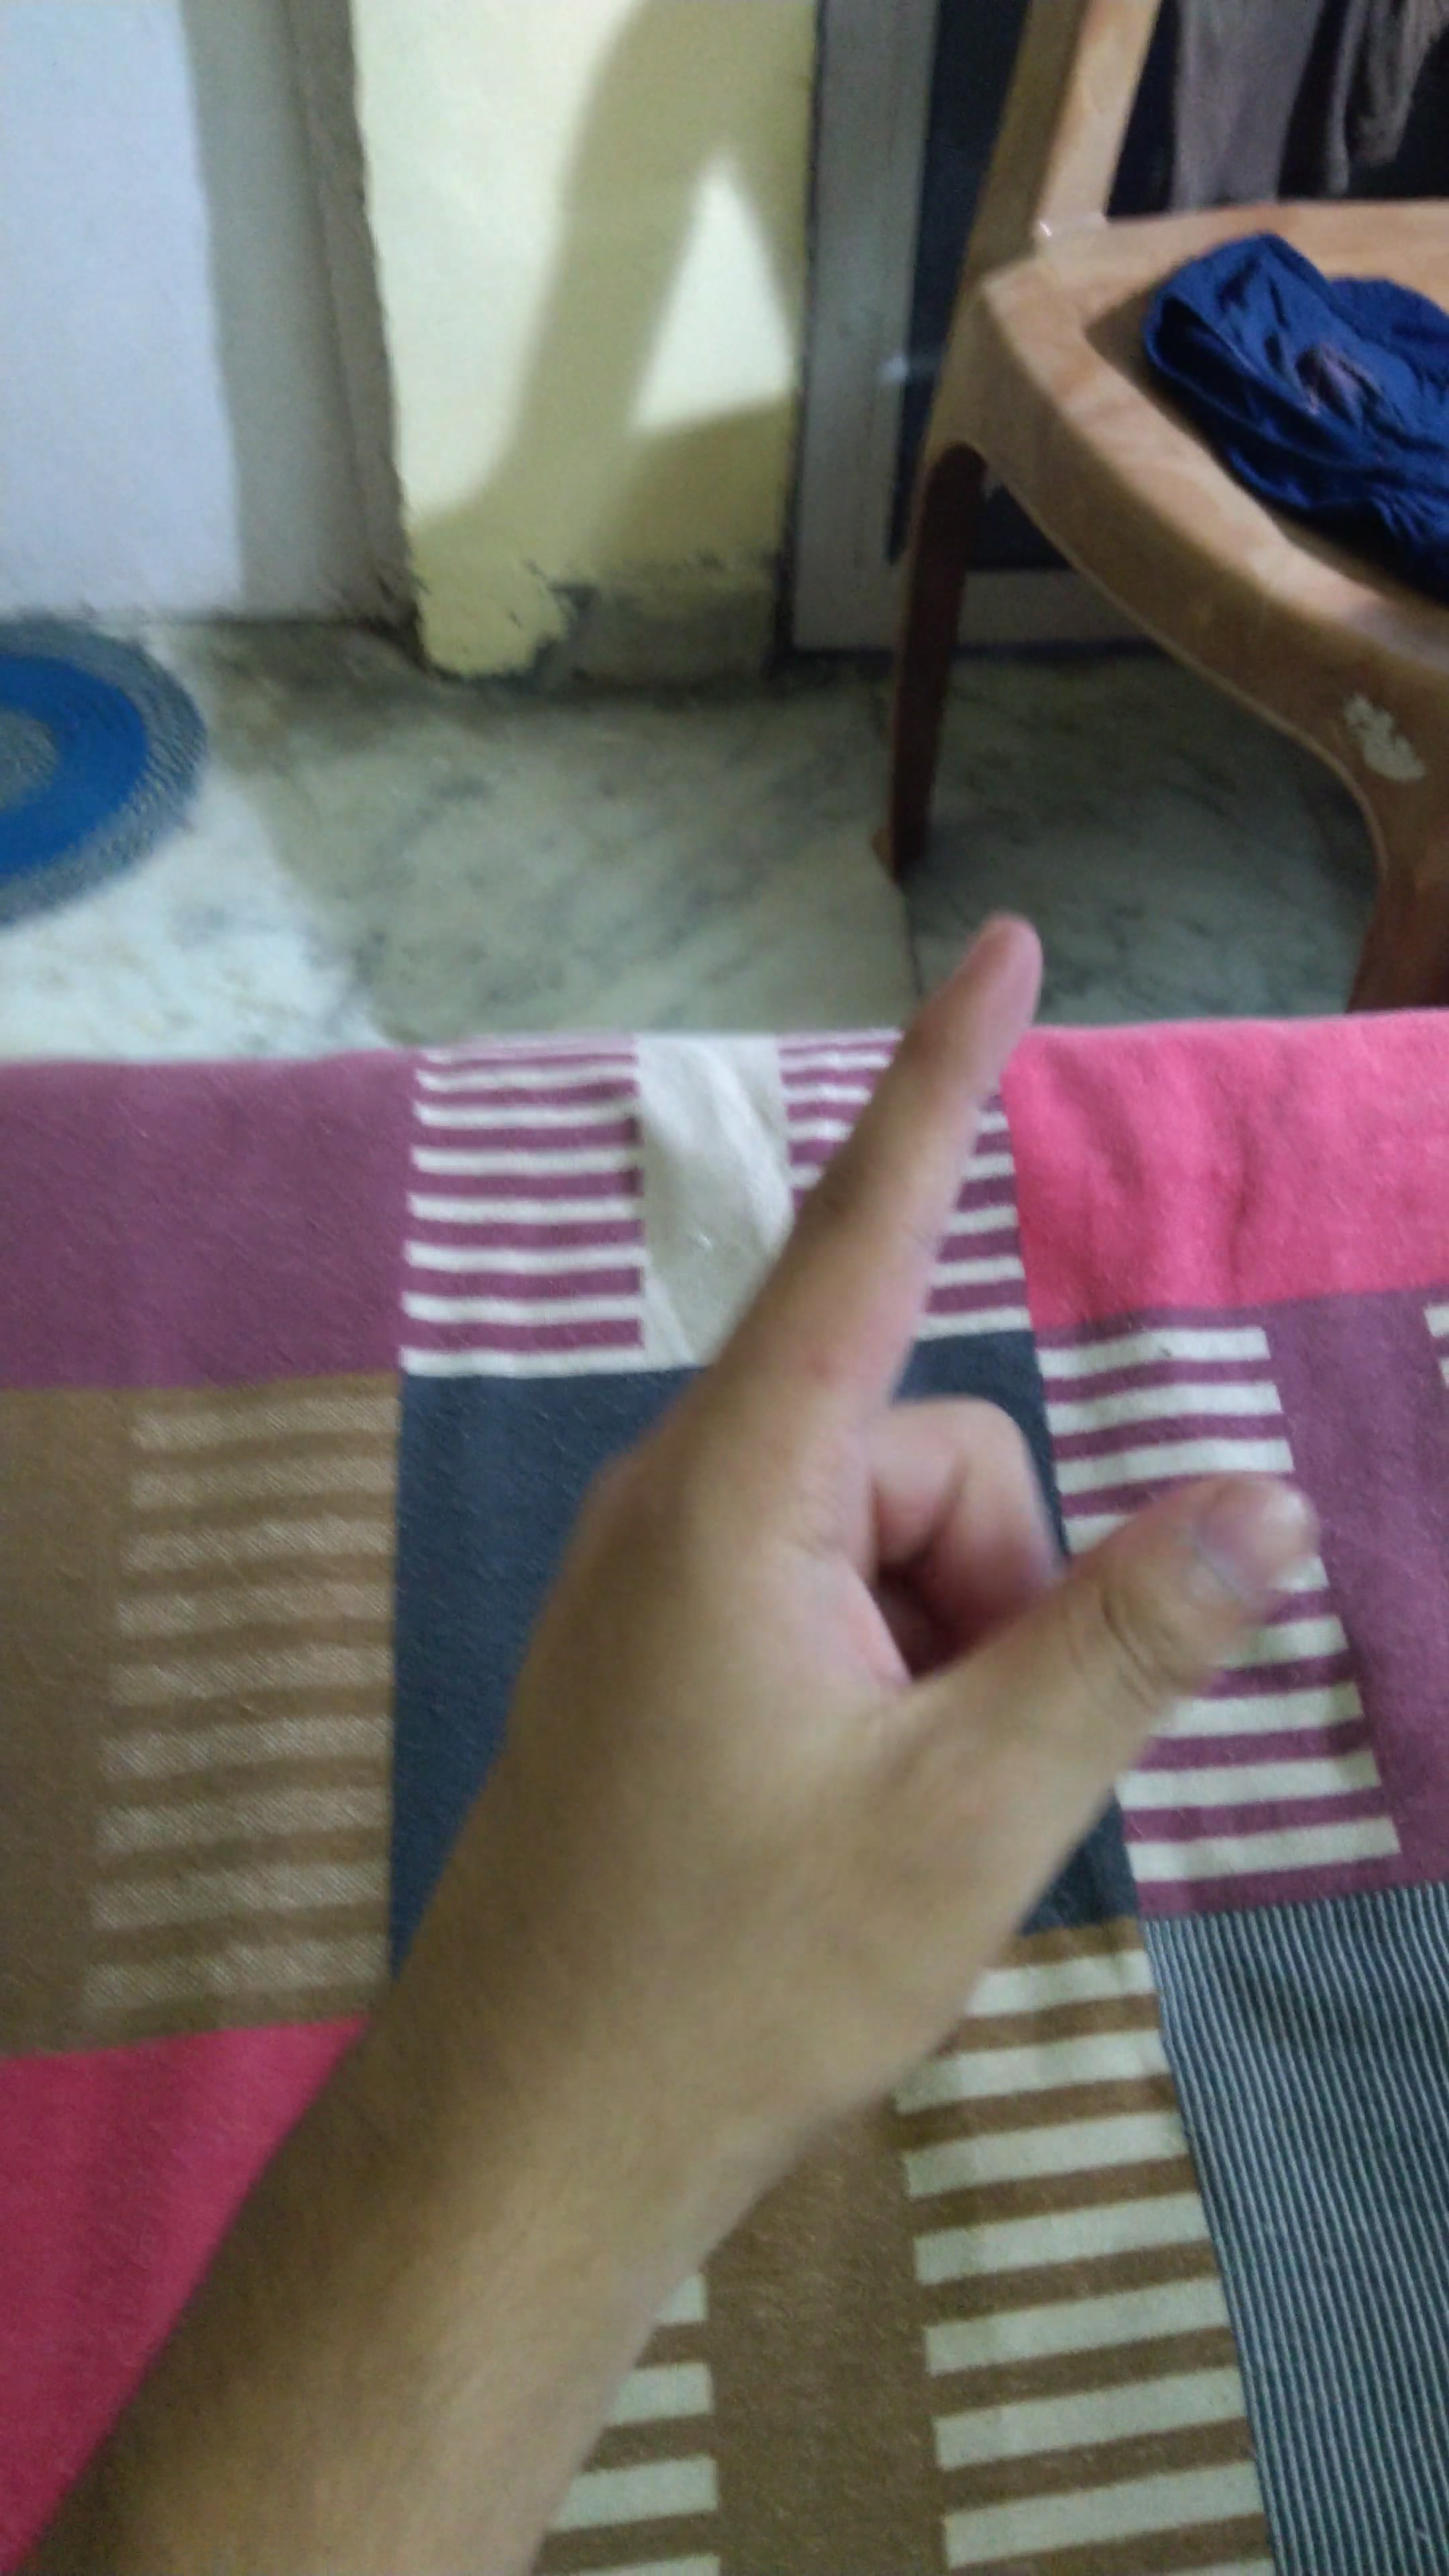hand: (446, 856, 1338, 2210)
